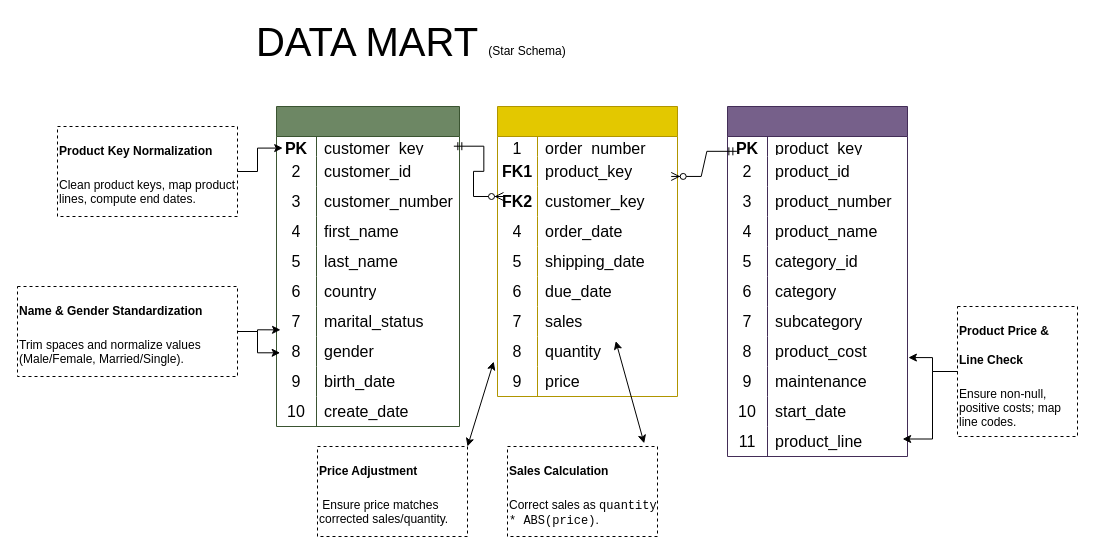
Image size: 1095x556. Some labels were removed from this diagram. Here are the shapes that lost their labels. From the top down, the box of each, then its label:
(276, 106, 460, 426): gold.dim_customers
(496, 106, 678, 396): gold.fact_sales
(726, 106, 908, 456): gold.dim_products
